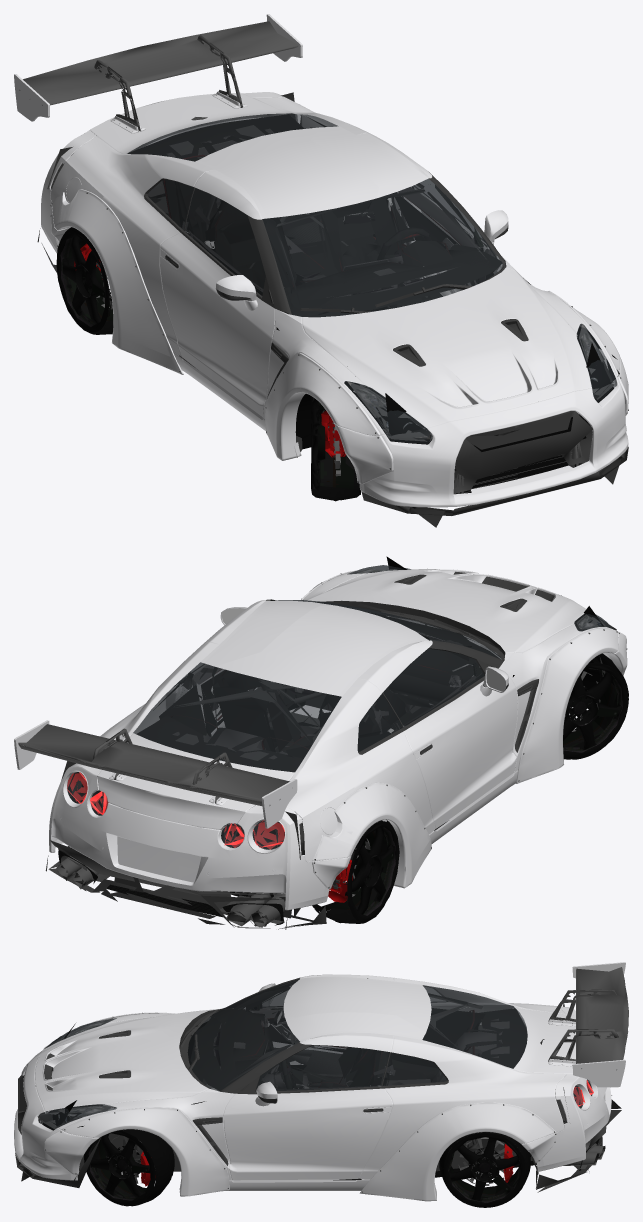
The model's file is kaze_gt35.glb.
The picture shows the model from 3 angles, top to bottom: view 1: azimuth 30°, elevation 25°; view 2: azimuth 150°, elevation 25°; view 3: azimuth 270°, elevation 25°; orthographic projection. The views are drawn at different scales.
Visible parts, largest first — view 1: Body, Wheel_RR, Wheel_FR; view 2: Body, Wheel_FR, Wheel_RR; view 3: Body, Wheel_FL, Wheel_RL.
Part boxes in pixels (<box>): Body: <box>14,14,628,527</box>; Wheel_RR: <box>56,209,113,334</box>; Wheel_FR: <box>285,388,385,501</box>; Body: <box>14,556,627,929</box>; Wheel_FR: <box>487,619,628,759</box>; Wheel_RR: <box>291,819,399,923</box>; Body: <box>14,962,628,1201</box>; Wheel_FL: <box>84,1107,174,1206</box>; Wheel_RL: <box>439,1132,532,1207</box>.
Size of what is drawn, in the model's own units: 2.21 by 1.34 by 4.71.
53 materials, 15 textured.
